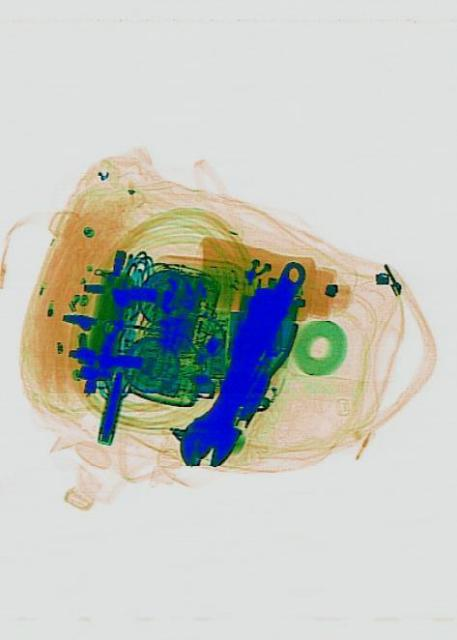Wrench: (170, 243, 317, 487)
